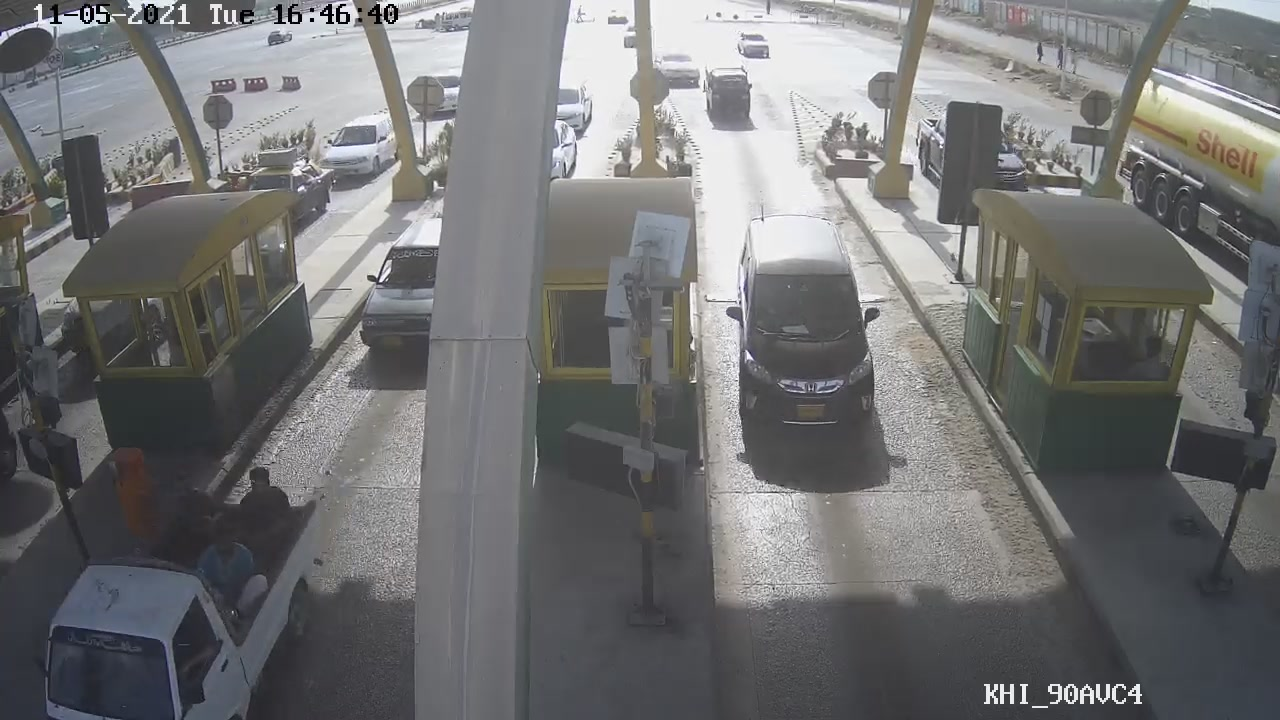F1: (709, 205, 899, 437)
